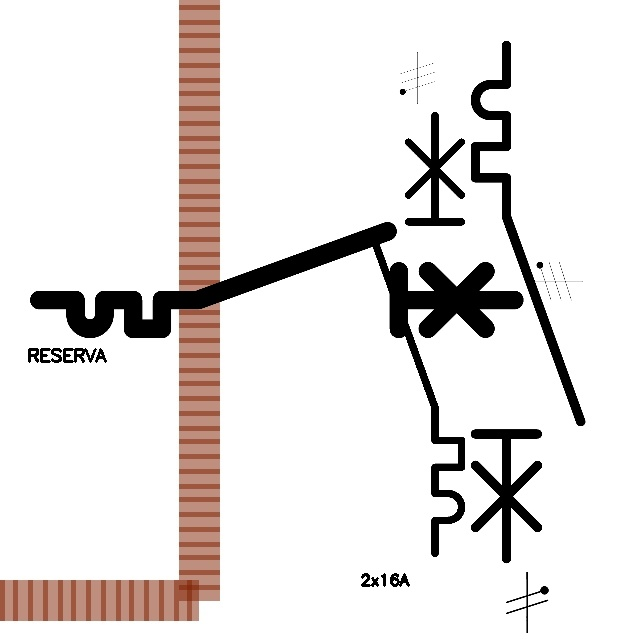interruptor_termomagnetico: (462, 32, 594, 572), (27, 219, 527, 341), (360, 104, 473, 565)
